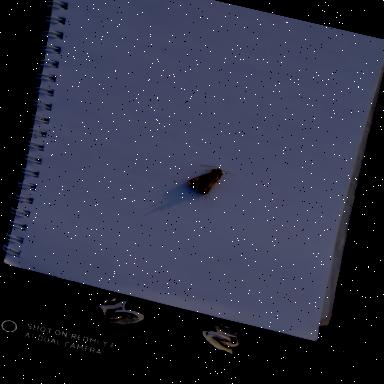pbw: (186, 162, 236, 201)
